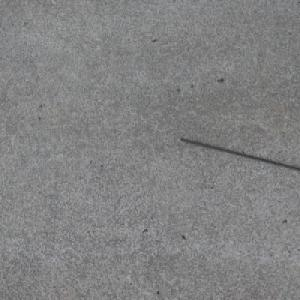LuggagePart: (178, 138, 300, 172)
